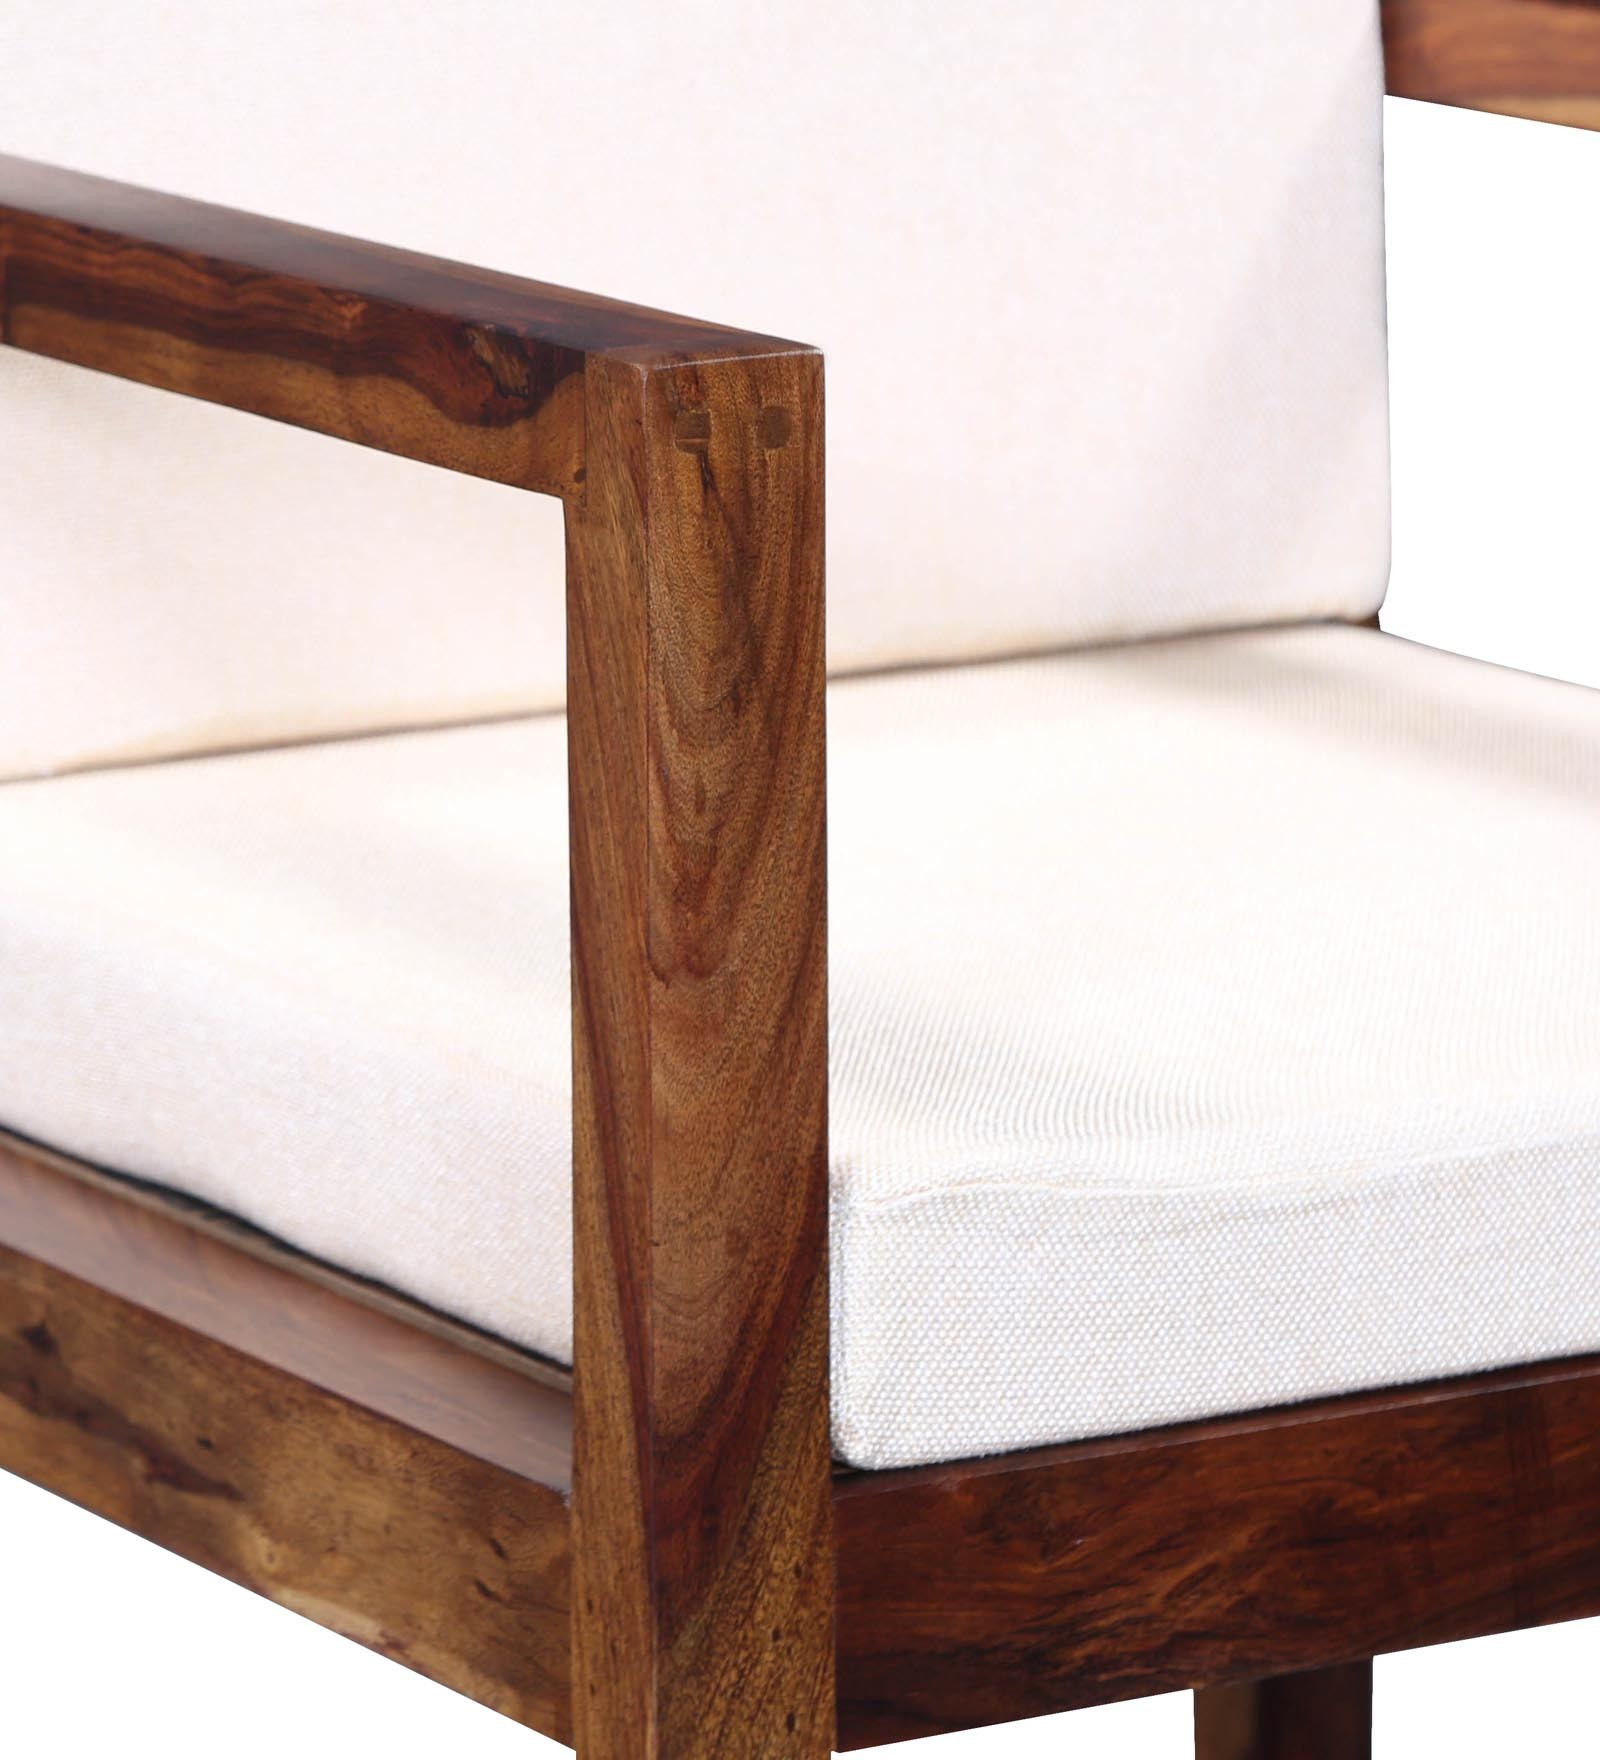Avian Arm Chair in Provincial Teak Finish by Woodsworth: (21, 35, 1600, 1705)
